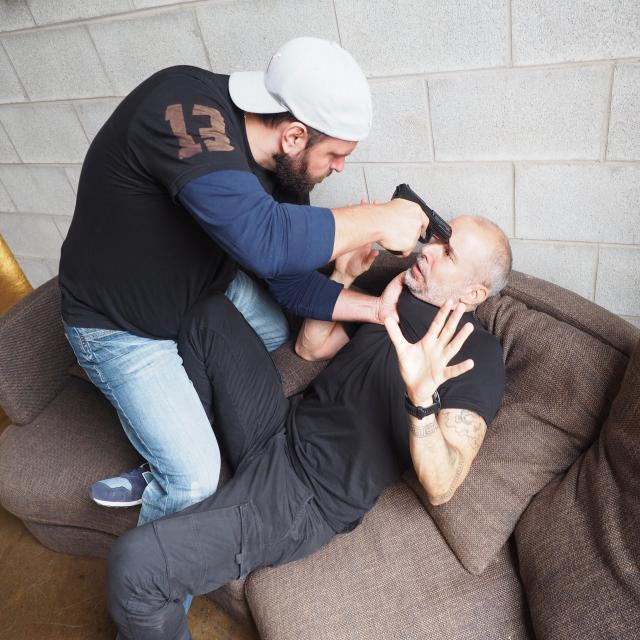intrusion detected: (49, 41, 517, 639), (57, 38, 436, 526)
